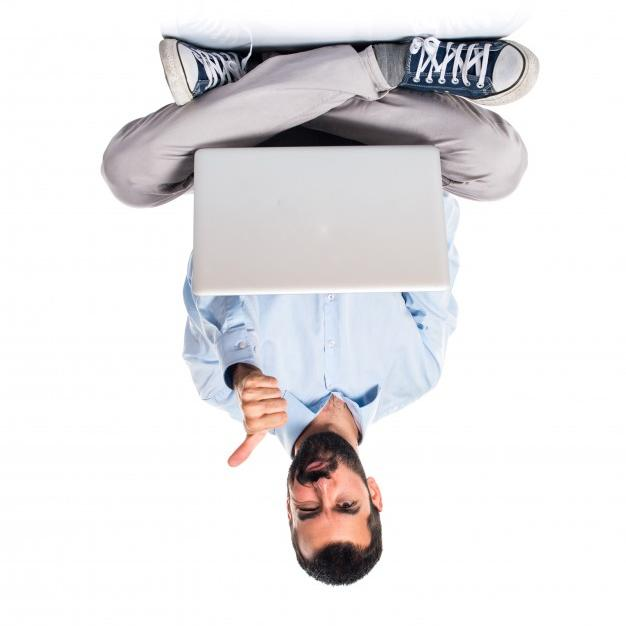thumbsdown: (228, 374, 288, 467)
